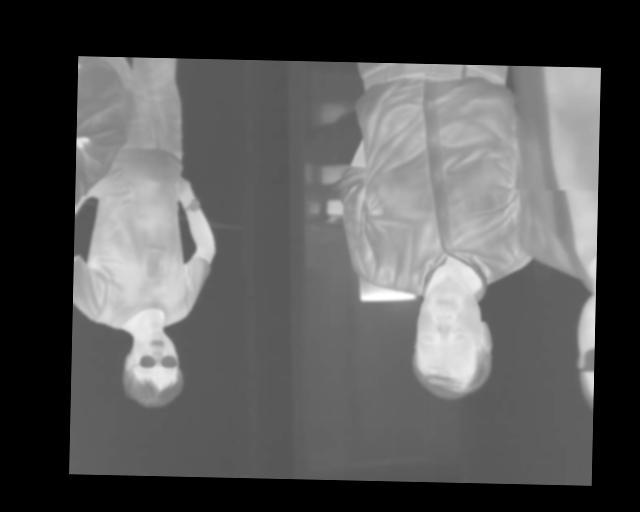face: (413, 285, 494, 401), (120, 328, 184, 409)
